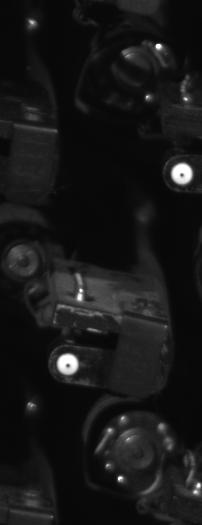fiber: (54, 350, 86, 381), (166, 154, 196, 187)
